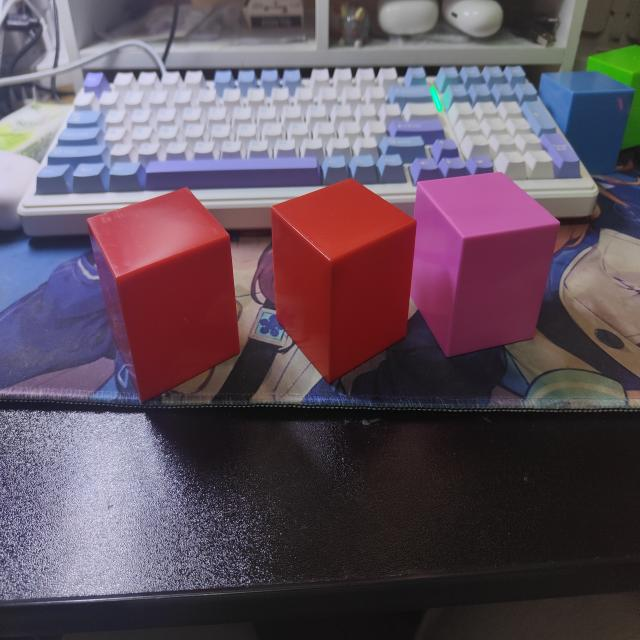pink: (410, 172, 562, 361)
red: (87, 189, 243, 403), (268, 180, 416, 385)
